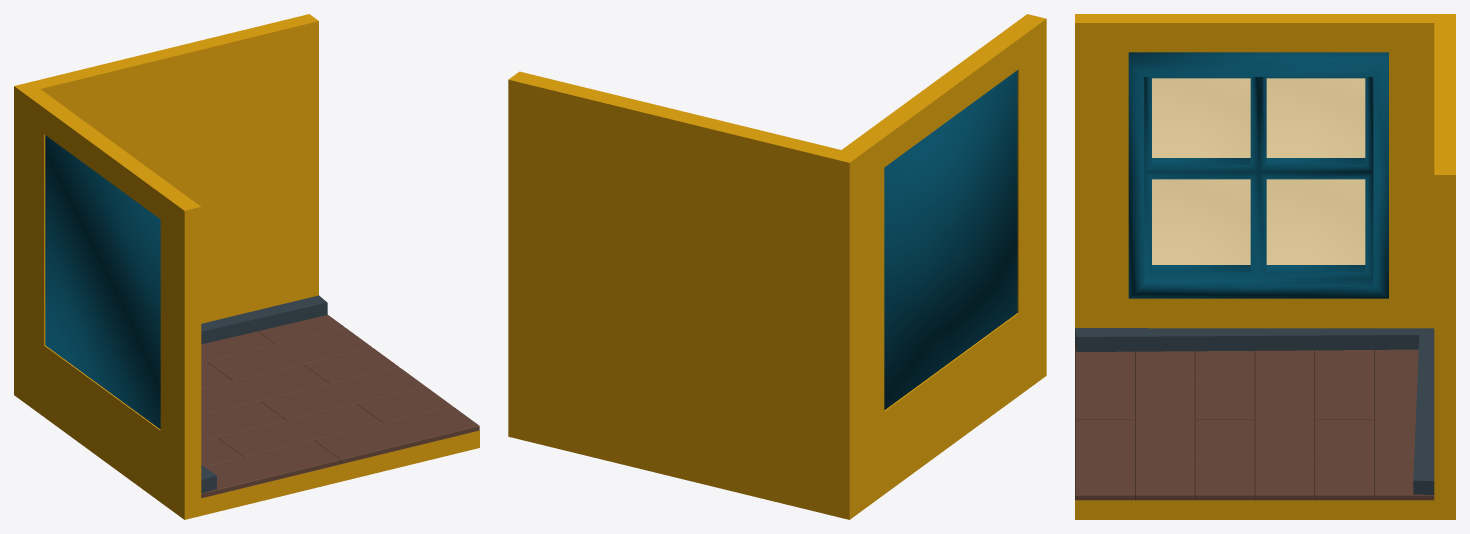
The model's file is level.glb.
The picture shows the model from 3 angles, left to right: view 1: azimuth 30°, elevation 25°; view 2: azimuth 150°, elevation 25°; view 3: azimuth 270°, elevation 25°; orthographic projection. The views are drawn at different scales.
Visible parts, largest first — view 1: Room, Floor, Window, Floor Trim; view 2: Room, Window; view 3: Room, Window, Floor, Floor Trim.
Part boxes in pixels (left/top/right/bottom): Room: left=14, top=14, right=479, bottom=519; Floor: left=201, top=315, right=479, bottom=498; Window: left=45, top=135, right=160, bottom=429; Floor Trim: left=201, top=295, right=327, bottom=493; Room: left=508, top=14, right=1046, bottom=519; Window: left=884, top=70, right=1017, bottom=409; Room: left=1075, top=14, right=1455, bottom=519; Window: left=1128, top=52, right=1388, bottom=298; Floor: left=1075, top=344, right=1434, bottom=500; Floor Trim: left=1075, top=328, right=1434, bottom=494.
Bounding box in the file's own units: 8 × 8 × 8.
